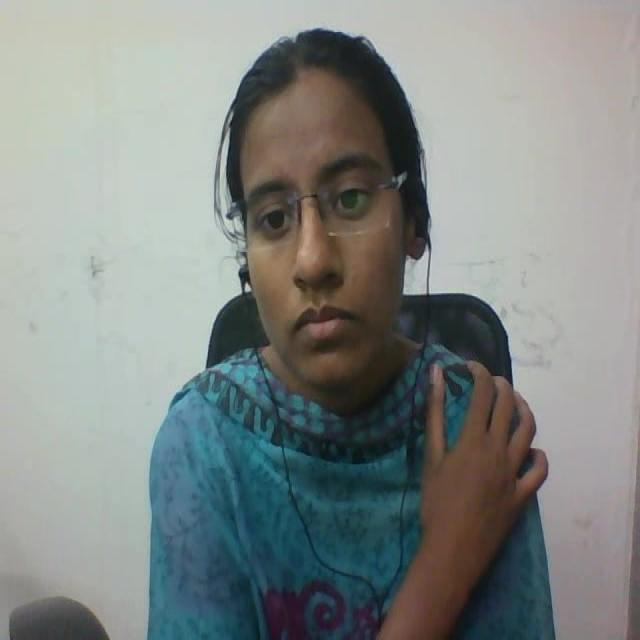Engaged: (201, 18, 465, 420)
